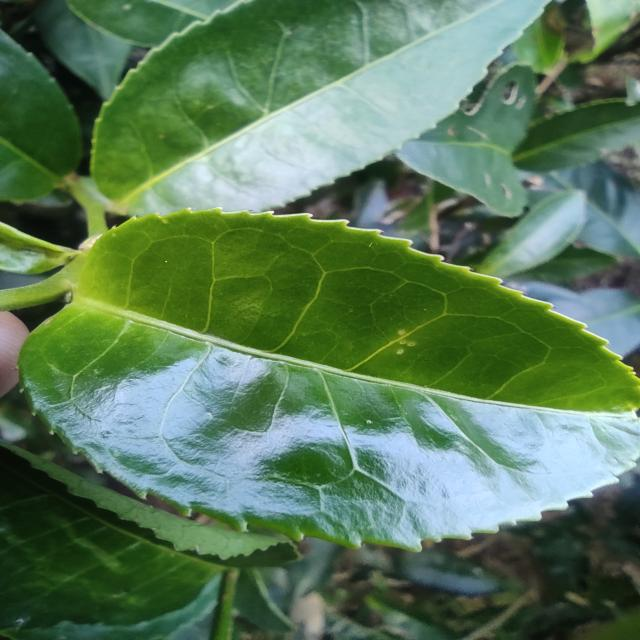Category C 4-7 days: (0, 189, 640, 571)
